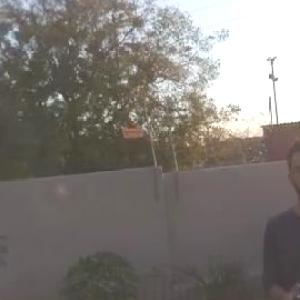follow: (256, 130, 299, 299)
